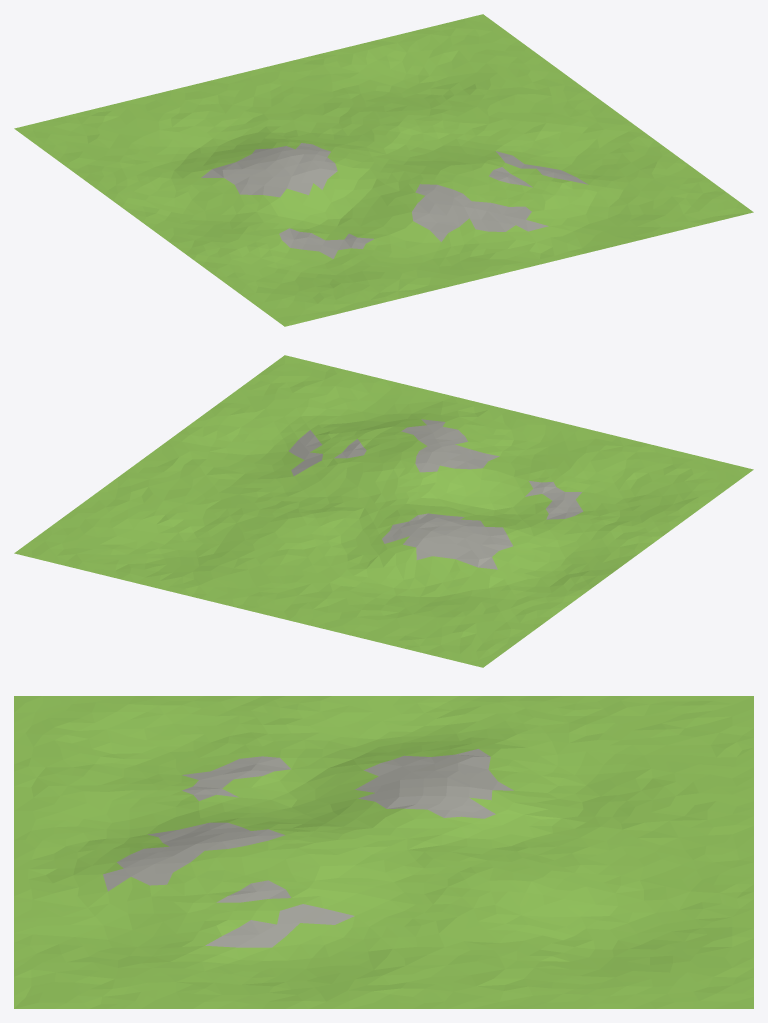
File: terrain_l_b_07.glb
3 views of the same model, one above another, from view 1: azimuth 30°, elevation 25°; view 2: azimuth 150°, elevation 25°; view 3: azimuth 270°, elevation 25° (orthographic). The views are drawn at different scales.
Parts seen in each view (by area): view 1: CPT_Terrain_L_b_07; view 2: CPT_Terrain_L_b_07; view 3: CPT_Terrain_L_b_07.
Boxes of the visible parts, left/top/right/bottom form: CPT_Terrain_L_b_07: left=14, top=14, right=753, bottom=326; CPT_Terrain_L_b_07: left=14, top=355, right=753, bottom=667; CPT_Terrain_L_b_07: left=14, top=696, right=753, bottom=1008.
Bounding box in the file's own units: 100 × 4 × 100.
Materials: 1 (1 with a texture image).
